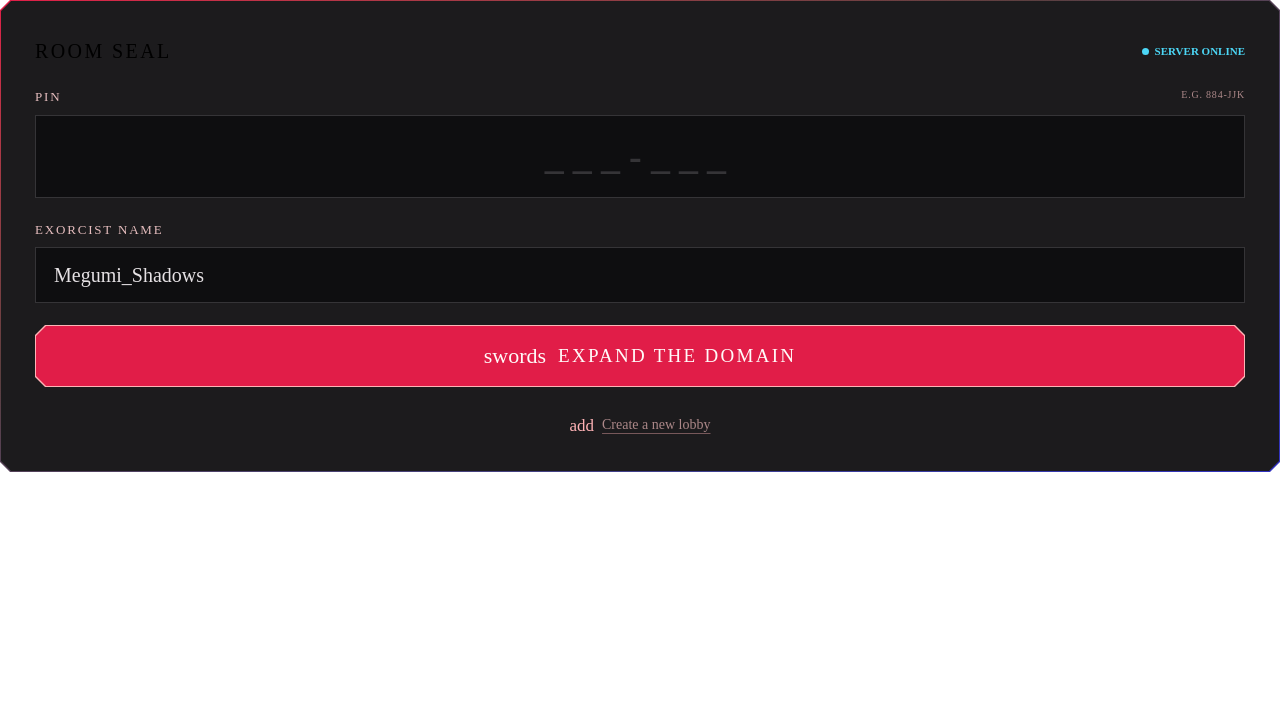
Test: JoinForm › says when the lobby could not be created
Click the button "Create a new lobby".
click(640, 425)  # box [570, 409, 710, 441]
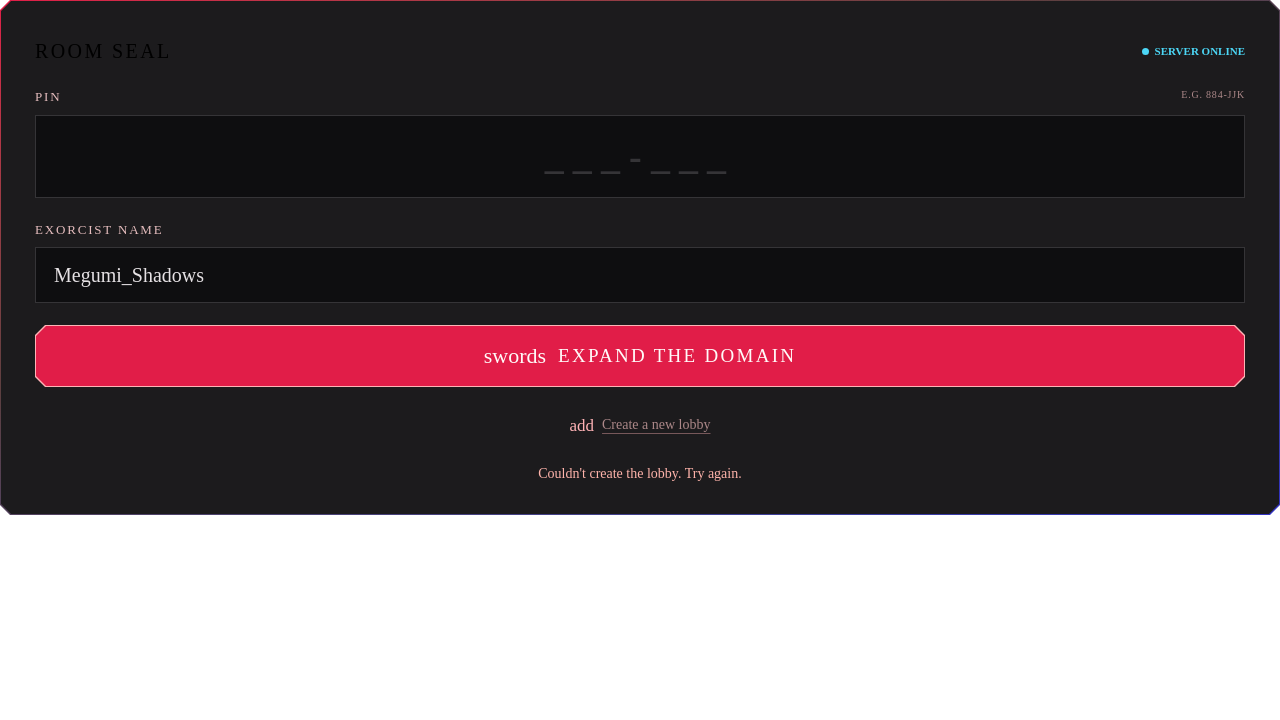
Now the message reads "Couldn't create the lobby. Try again.", box [538, 466, 742, 481]
